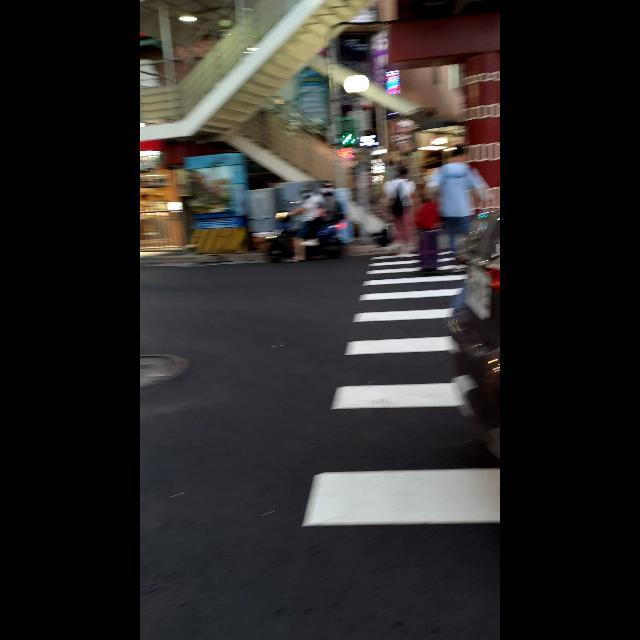sidewalk: (292, 232, 500, 557)
